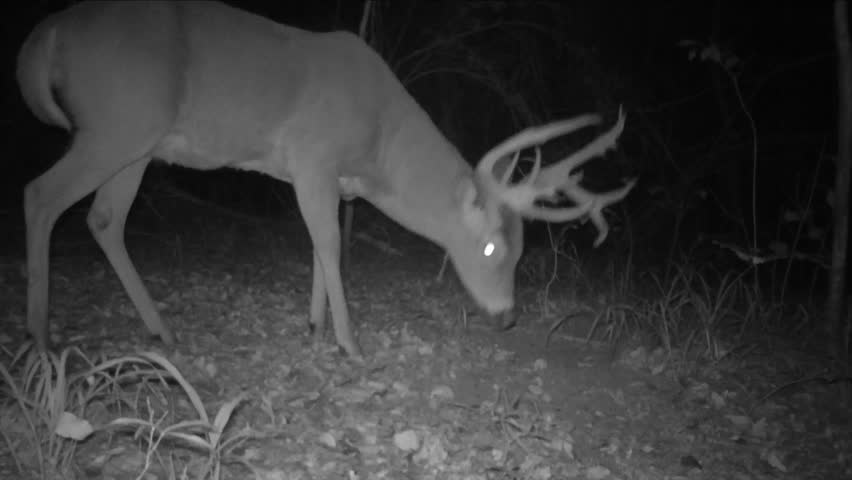deer: (4, 1, 599, 378)
